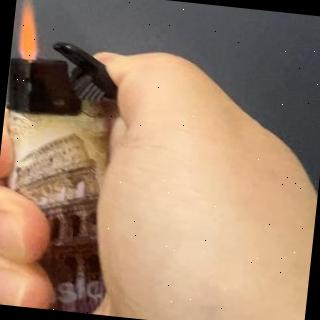fire: (13, 0, 48, 61)
